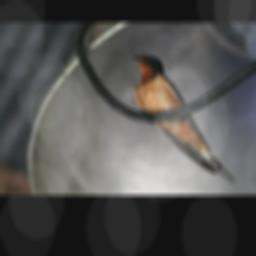Swallow: (127, 51, 240, 184)
